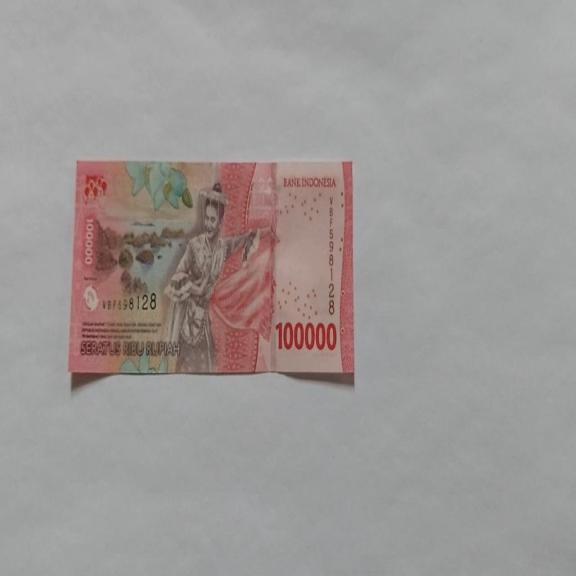Kertas: (68, 158, 355, 384), (274, 318, 338, 352)
